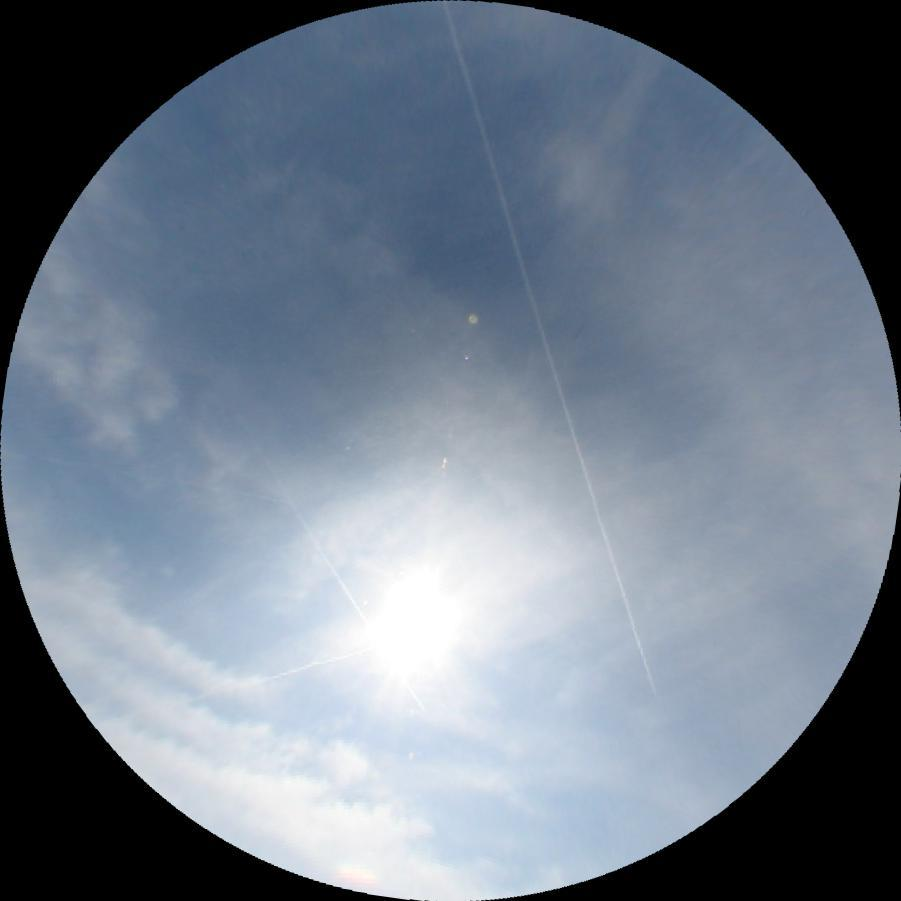contrail young: (230, 410, 425, 713), (250, 646, 374, 685)
sun: (358, 566, 470, 686)
